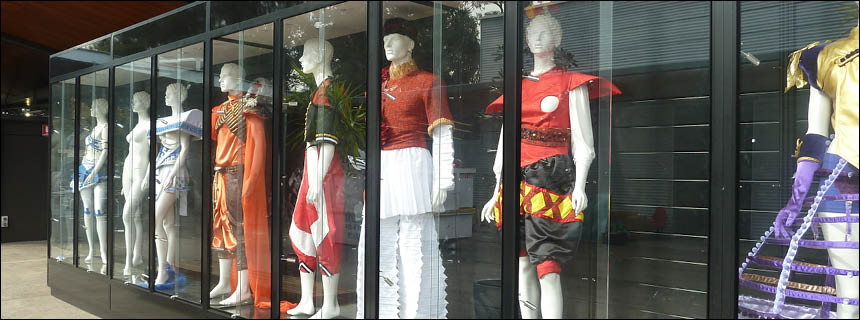person-like: (475, 6, 622, 320), (353, 16, 463, 320), (283, 34, 350, 320), (205, 58, 268, 310), (146, 78, 204, 290), (68, 88, 115, 267), (118, 85, 154, 279)
